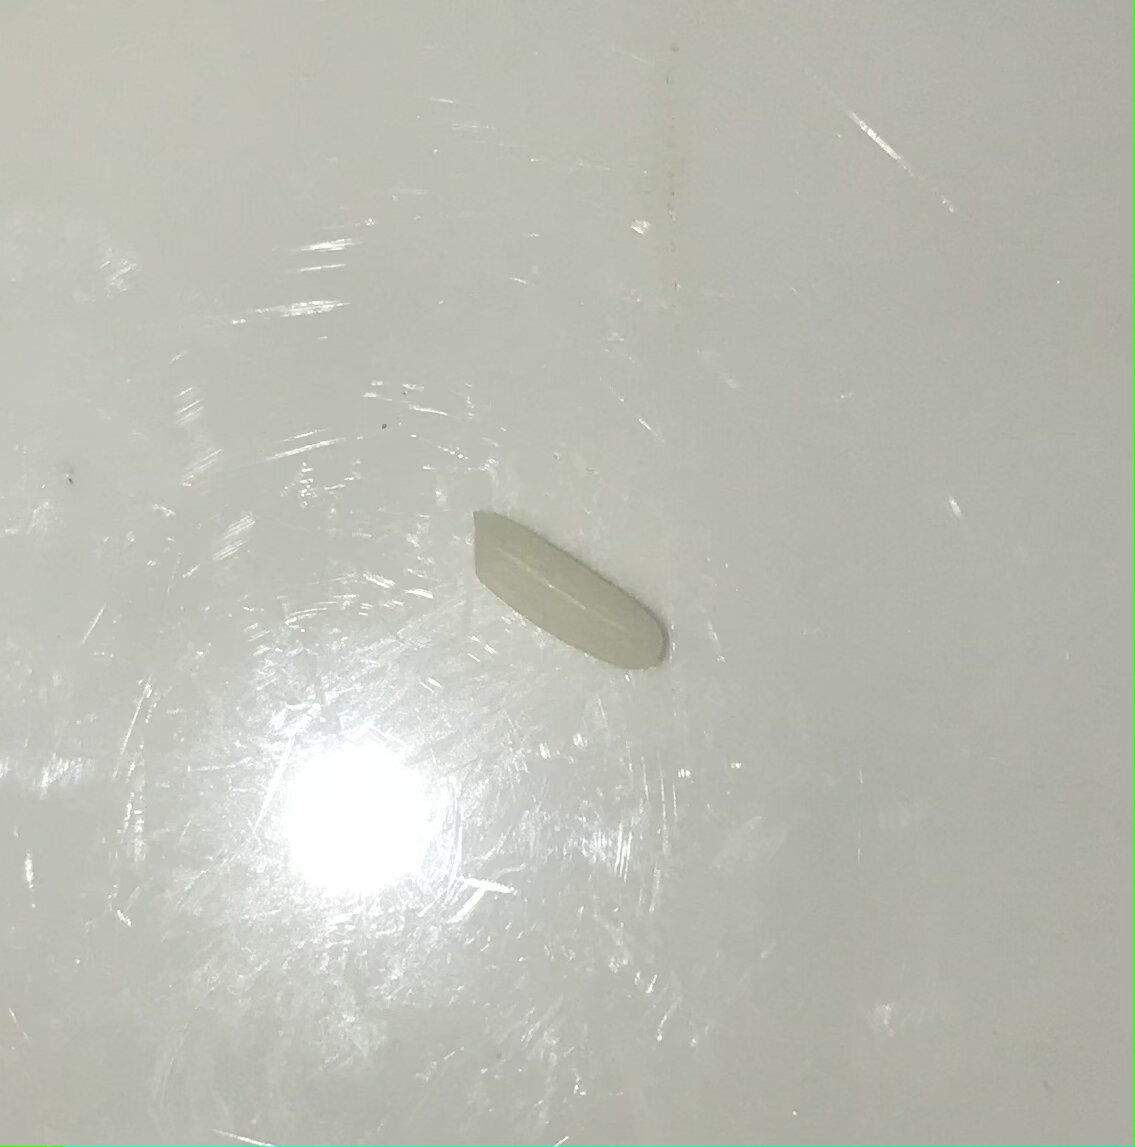Gao Lai Sua: (465, 494, 679, 678)
